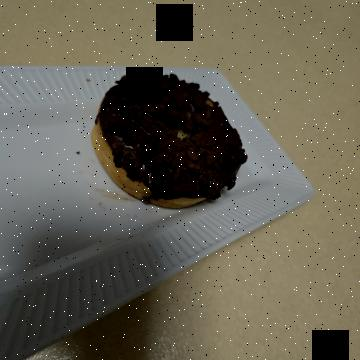doughnut: (61, 103, 234, 281)
